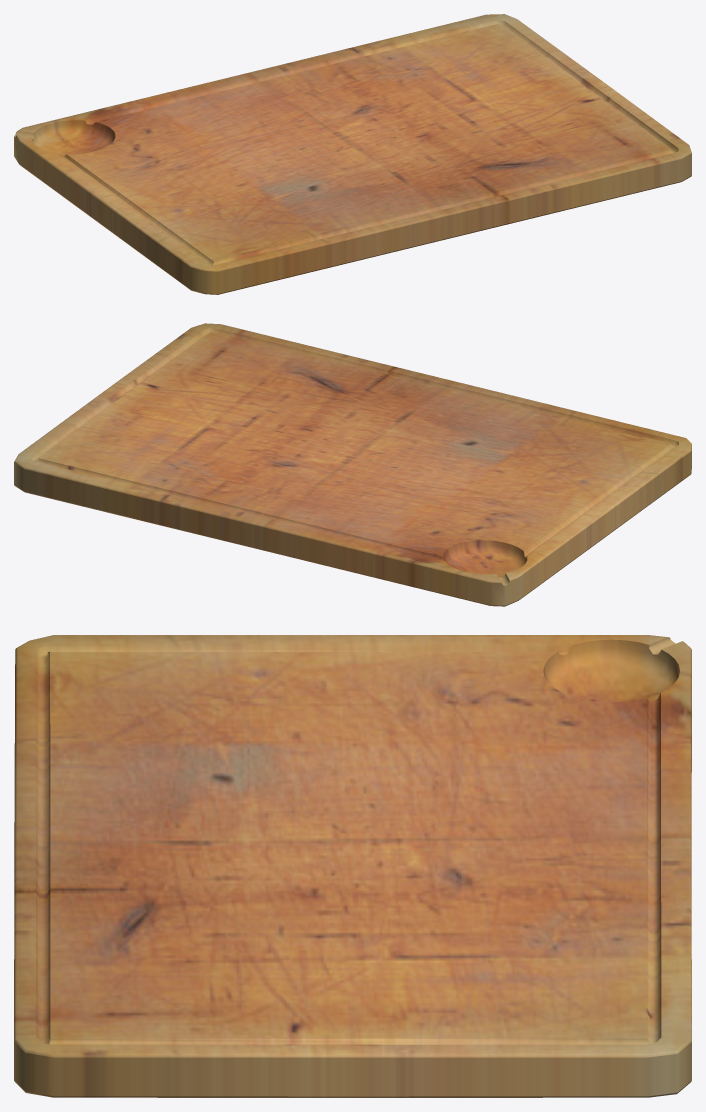
The model's file is plancheADecouper.obj.
3 renders of one model, top to bottom at view 1: azimuth 30°, elevation 25°; view 2: azimuth 150°, elevation 25°; view 3: azimuth 270°, elevation 25°, orthographic. The views are drawn at different scales.
Visible parts, largest first — view 1: planche_a_decouper; view 2: planche_a_decouper; view 3: planche_a_decouper.
Part boxes in pixels (x1,y1,x2,y2): planche_a_decouper: (14, 14, 691, 294); planche_a_decouper: (14, 323, 691, 606); planche_a_decouper: (14, 635, 691, 1097).
Size of the model in its own units: 35 by 1.7 by 23.8.
1 material, 1 textured.
